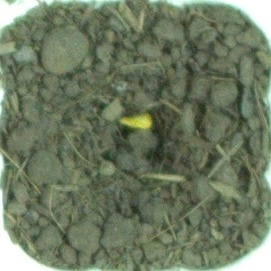chilli seed: (115, 104, 157, 132)
